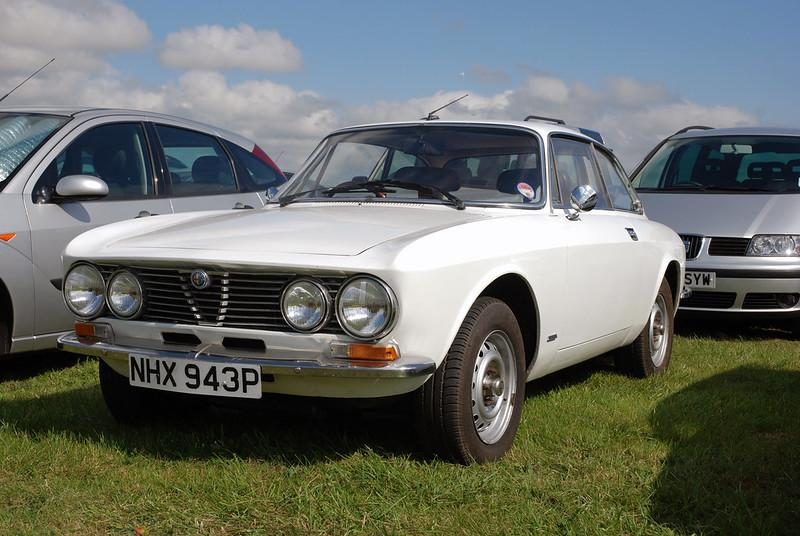windshield: (265, 120, 547, 217)
